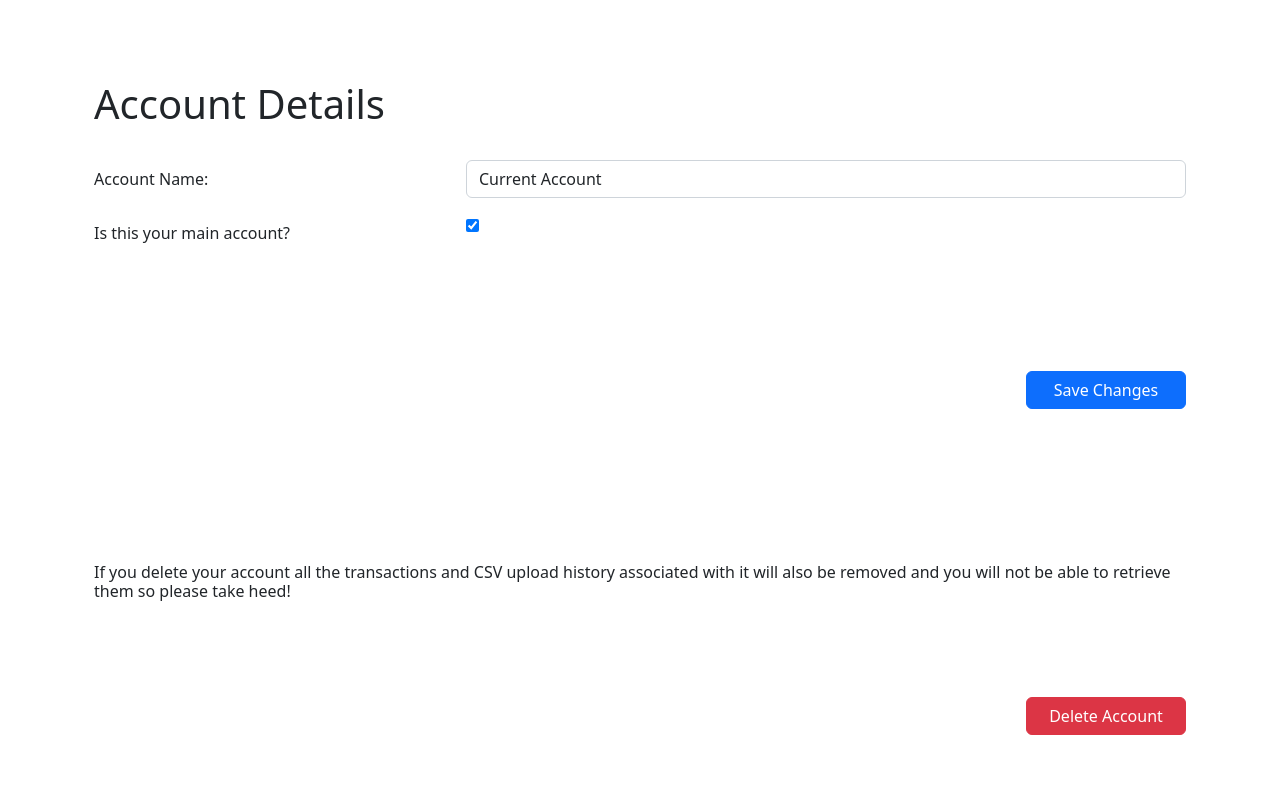
Test: canceling the dialog sends no request and leaves the account untouched
Expected: the field showing "Current Account" is shown, [466, 160, 1186, 198]
Click the button "Delete Account".
click(1106, 716)  # box [1026, 697, 1186, 735]
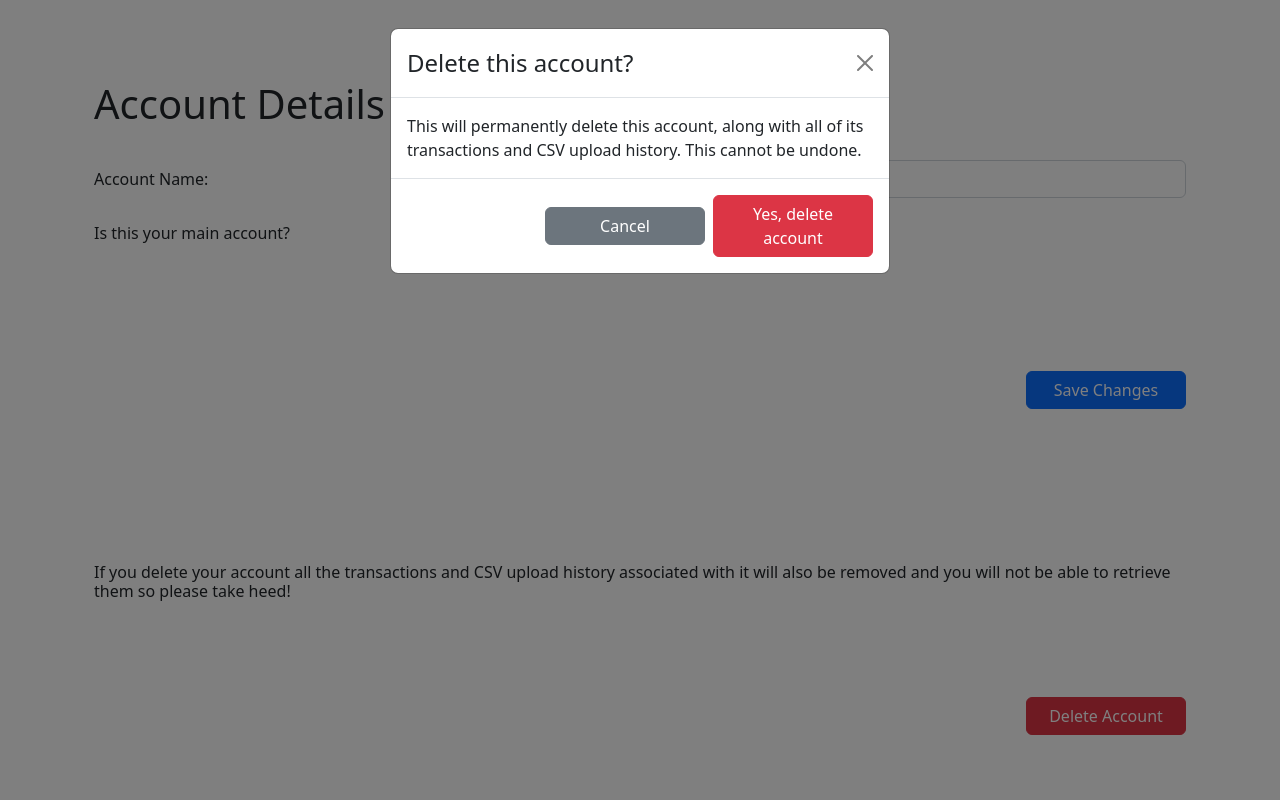
Click the button "Cancel".
click(625, 226)  # box [545, 207, 705, 245]
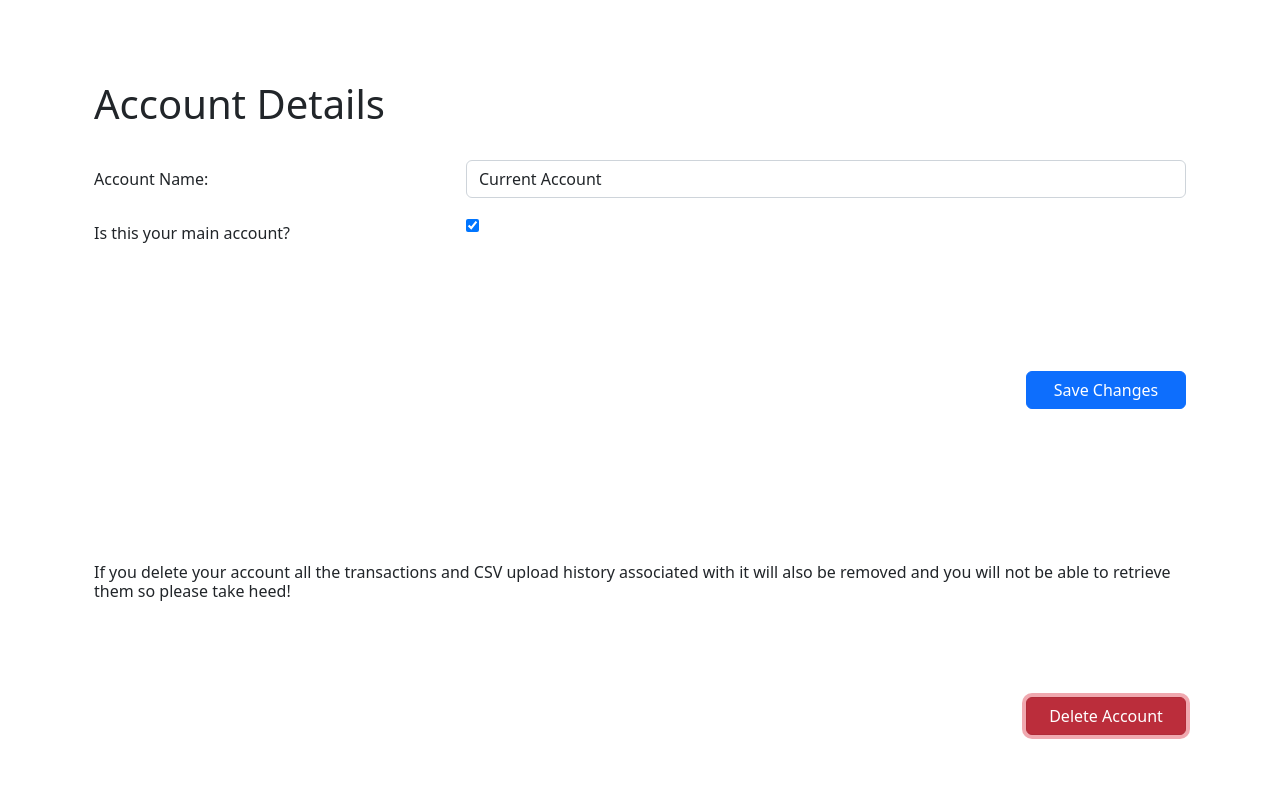
Expected: the text "Delete this account?" is gone
